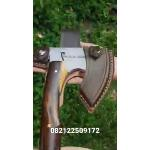Kapak: (33, 30, 117, 150)
